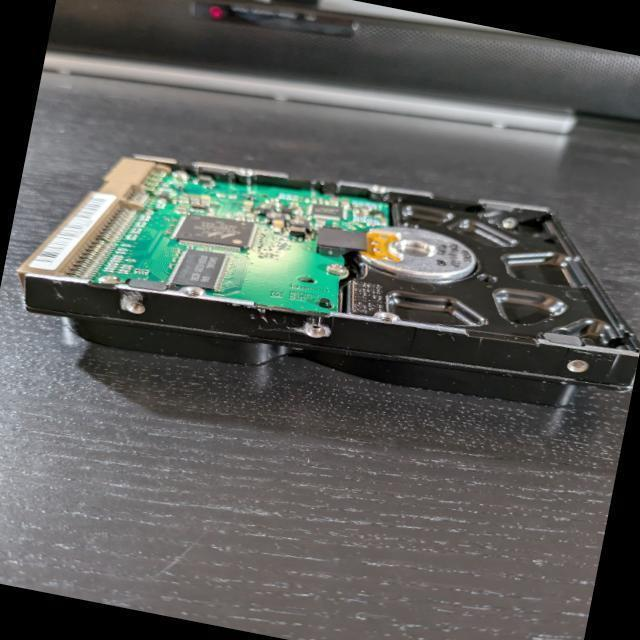DISK: (4, 108, 640, 448)
